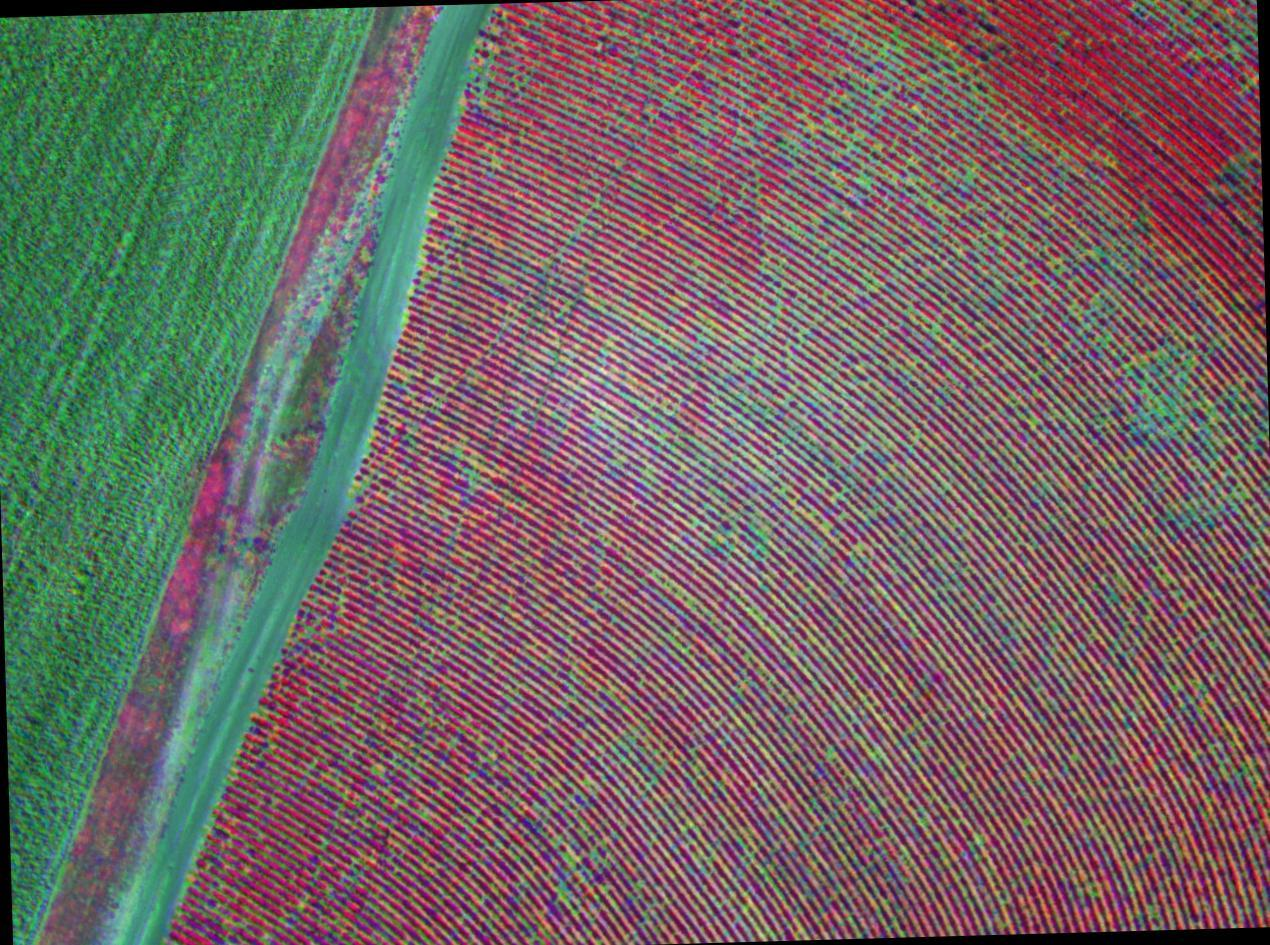dc: (895, 29, 899, 33), (698, 335, 702, 339), (584, 780, 588, 784), (687, 601, 691, 604), (376, 772, 380, 775), (563, 855, 567, 858), (809, 121, 812, 124)
